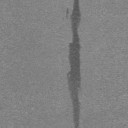red iron: (67, 0, 81, 128)
